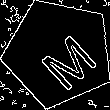M_NW: (24, 19, 93, 87)
